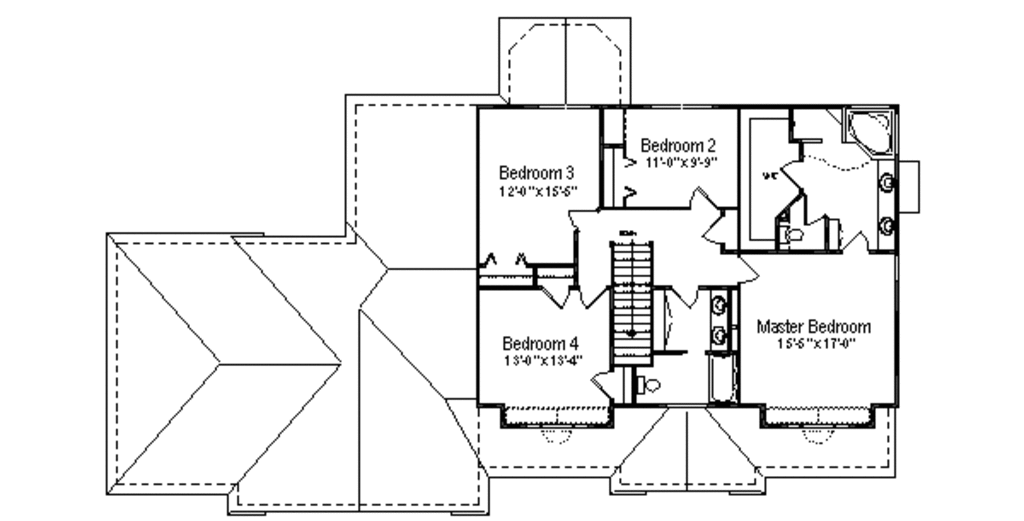door: (667, 282, 701, 314), (533, 285, 572, 311), (688, 184, 718, 216), (731, 254, 760, 284), (577, 283, 610, 309), (779, 154, 800, 193), (586, 369, 611, 401), (564, 207, 598, 229), (701, 212, 722, 247), (841, 231, 870, 256), (801, 197, 825, 226)
small_sink: (876, 165, 895, 252), (710, 284, 730, 354)
stairs: (609, 232, 655, 369)
tub: (845, 113, 891, 159), (706, 351, 743, 405)
